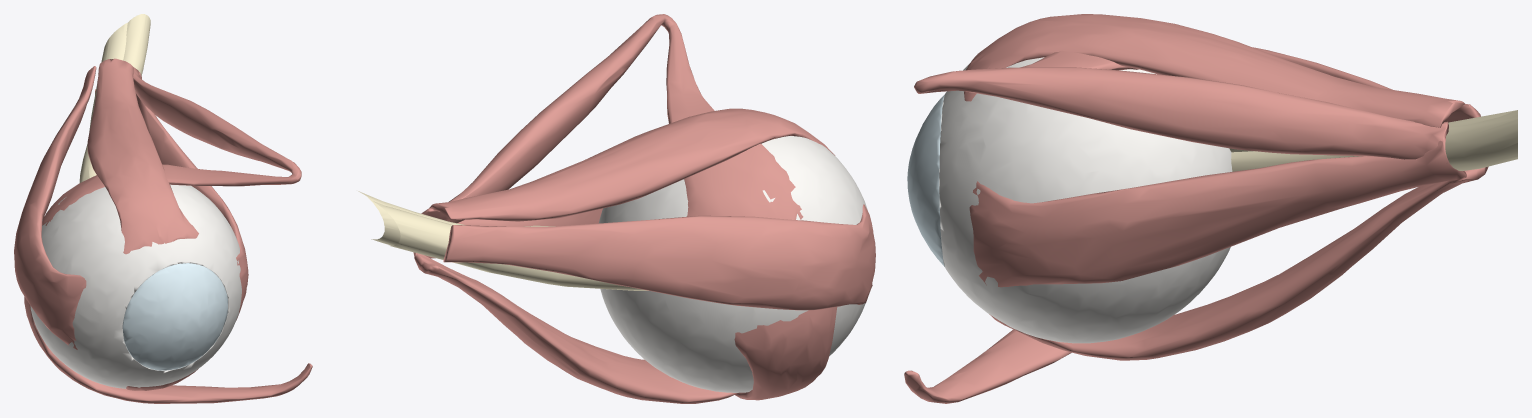
The model's file is eye.glb.
3 renders of one model, left to right at view 1: azimuth 30°, elevation 25°; view 2: azimuth 150°, elevation 25°; view 3: azimuth 270°, elevation 25°, orthographic. The views are drawn at different scales.
Parts seen in each view (by area): view 1: muscles, sclera, cornea, optic_nerve; view 2: muscles, sclera, optic_nerve; view 3: muscles, sclera, optic_nerve, cornea.
Boxes of the visible parts, x1,y1,x2,y2 form: muscles: (14,58,312,403); sclera: (30,184,241,388); cornea: (122,263,227,370); optic_nerve: (79,14,150,182); muscles: (413,14,875,403); sclera: (598,136,867,392); optic_nerve: (358,191,648,290); muscles: (904,14,1488,403); sclera: (939,57,1232,343); optic_nerve: (1229,110,1517,171); cornea: (907,94,944,266).
Size of the model in its own units: 0.0361 by 0.0315 by 0.0495.
